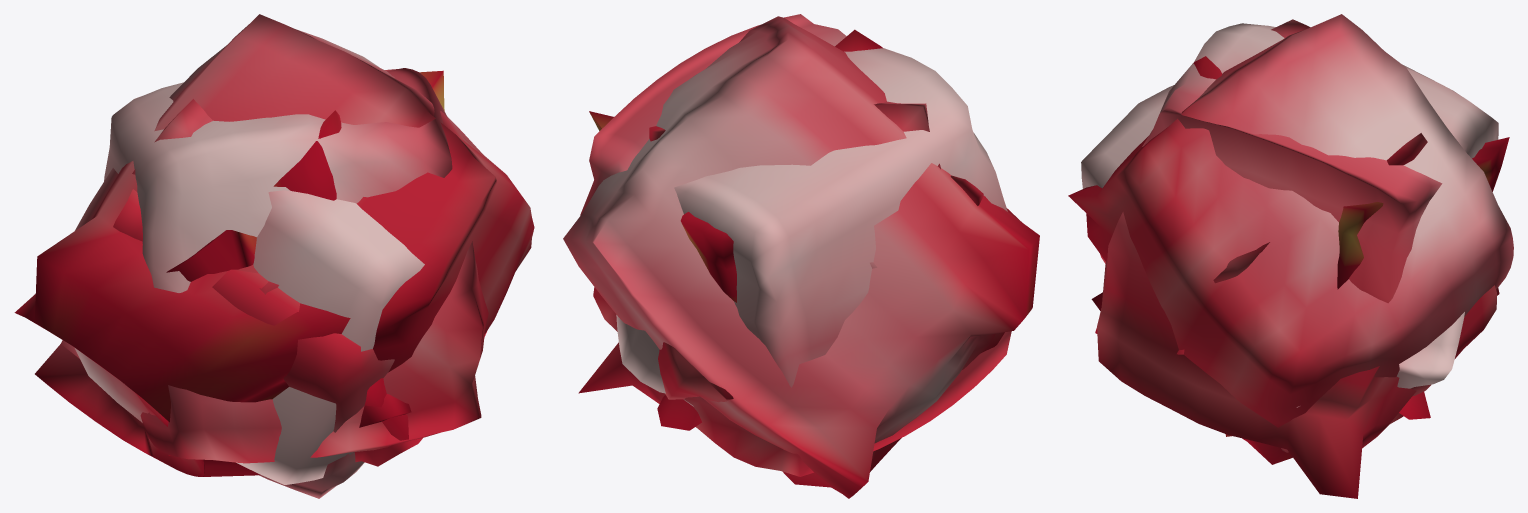
File: _pedacos_morango.glb
The picture shows the model from 3 angles, left to right: view 1: azimuth 30°, elevation 25°; view 2: azimuth 150°, elevation 25°; view 3: azimuth 270°, elevation 25°; orthographic projection. The views are drawn at different scales.
Parts seen in each view (by area): view 1: _pedacos_morango_9, _pedacos_morango_8, _pedacos_morango_6, _pedacos_morango_3, _pedacos_morango_1, _pedacos_morango_4; view 2: _pedacos_morango_9, _pedacos_morango_8, _pedacos_morango_6, _pedacos_morango_1, _pedacos_morango_2, _pedacos_morango_4; view 3: _pedacos_morango_9, _pedacos_morango_8, _pedacos_morango_6, _pedacos_morango_2, _pedacos_morango_1, _pedacos_morango_4.
Boxes of the visible parts, bbox=[...] form: _pedacos_morango_9: bbox=[14, 14, 534, 476]; _pedacos_morango_8: bbox=[104, 68, 488, 463]; _pedacos_morango_6: bbox=[132, 99, 424, 484]; _pedacos_morango_3: bbox=[113, 189, 394, 498]; _pedacos_morango_1: bbox=[166, 110, 486, 466]; _pedacos_morango_4: bbox=[168, 394, 411, 455]; _pedacos_morango_9: bbox=[563, 16, 1039, 498]; _pedacos_morango_8: bbox=[578, 14, 1011, 476]; _pedacos_morango_6: bbox=[649, 101, 940, 402]; _pedacos_morango_1: bbox=[616, 29, 882, 406]; _pedacos_morango_2: bbox=[589, 111, 736, 302]; _pedacos_morango_4: bbox=[657, 395, 701, 430]; _pedacos_morango_9: bbox=[1068, 14, 1513, 464]; _pedacos_morango_8: bbox=[1097, 23, 1498, 498]; _pedacos_morango_6: bbox=[1081, 19, 1499, 452]; _pedacos_morango_2: bbox=[1225, 137, 1509, 436]; _pedacos_morango_1: bbox=[1095, 56, 1464, 388]; _pedacos_morango_4: bbox=[1091, 292, 1430, 419].
Bounding box in the file's own units: 0.1843 × 0.1661 × 0.1598.
